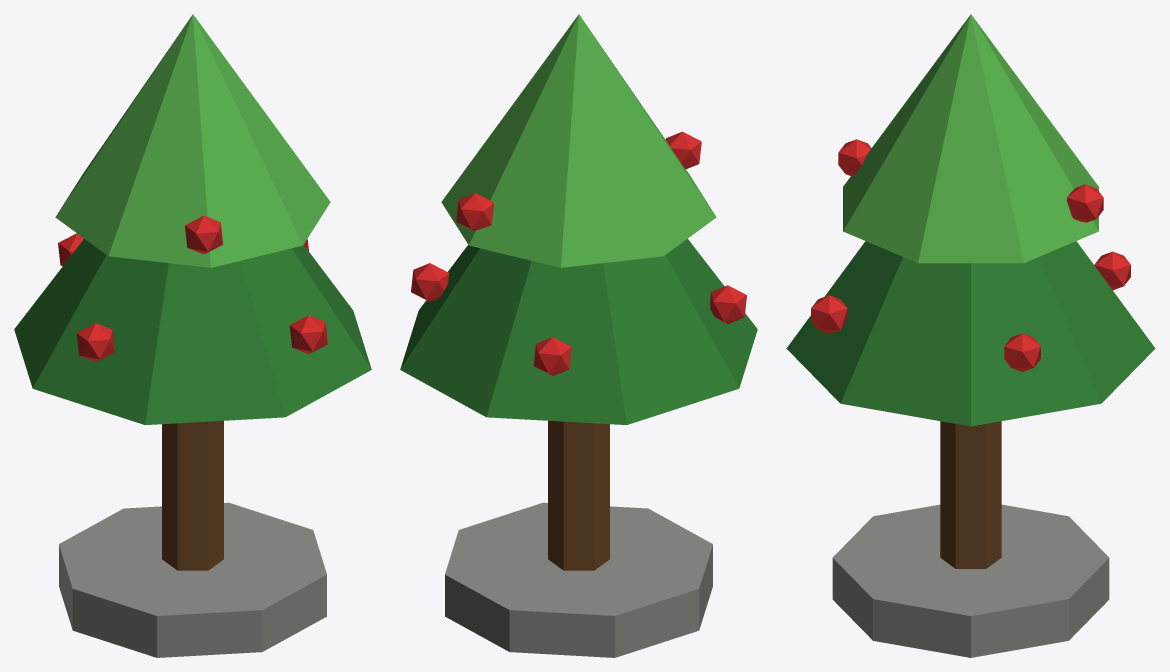
The model's file is test_prop.glb.
3 renders of one model, left to right at view 1: azimuth 30°, elevation 25°; view 2: azimuth 150°, elevation 25°; view 3: azimuth 270°, elevation 25°, orthographic.
Parts seen in each view (by area): view 1: TestProp; view 2: TestProp; view 3: TestProp.
Boxes of the visible parts, x1,y1,x2,y2 form: TestProp: (14, 14, 371, 657); TestProp: (400, 14, 757, 657); TestProp: (786, 14, 1155, 657).
Size of the model in its own units: 1.2 by 2.1 by 1.2.
